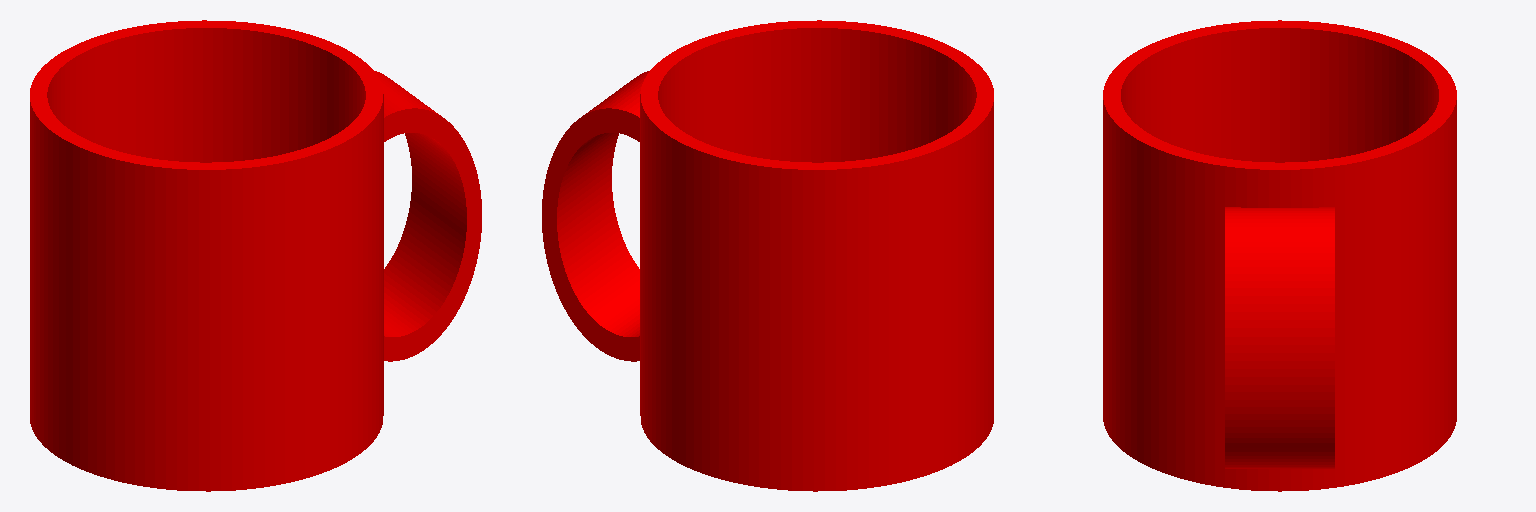
robot.urdf — mug.urdf:
<?xml version="1.0" ?>
<robot name="mug.urdf">
  <link name="baseLink">
    <inertial>
      <origin rpy="0 0 0" xyz="0 0 0"/>
       <mass value=".1"/>
       <inertia ixx="1" ixy="0" ixz="0" iyy="1" iyz="0" izz="1"/>
    </inertial>
    <visual>
      <origin rpy="0 0 0" xyz="0 0 0"/>
      <geometry>
        <mesh filename="16.stl" scale="1 1 1" />
      </geometry>
      <material name="red">
        <color rgba="1 0 0 1"/>
      </material>
    </visual>
    <collision>
      <origin rpy="0 0 0" xyz="0 0 0"/>
      <geometry>
        <mesh filename="16_convex.obj" scale="1 1 1" />
      </geometry>
    </collision>
  </link>
</robot>

--- Render facts (derived) ---
3 views of the same robot in one strip: view 1: azimuth 30°, elevation 25°; view 2: azimuth 150°, elevation 25°; view 3: azimuth 270°, elevation 25° (orthographic).
Model mug.urdf with 1 links and 0 joints (none), rooted at baseLink, posed every joint at zero.
Visible links, largest first — view 1: baseLink; view 2: baseLink; view 3: baseLink.
Link boxes in pixels (x1,y1,x2,y2): baseLink: [30, 20, 481, 491]; baseLink: [542, 20, 993, 491]; baseLink: [1103, 20, 1456, 491].
Size in the robot's own frame: 0.1316 by 0.1005 by 0.1008 metres.
1 mesh visuals loaded from 1 distinct referenced files (1 binary STL).